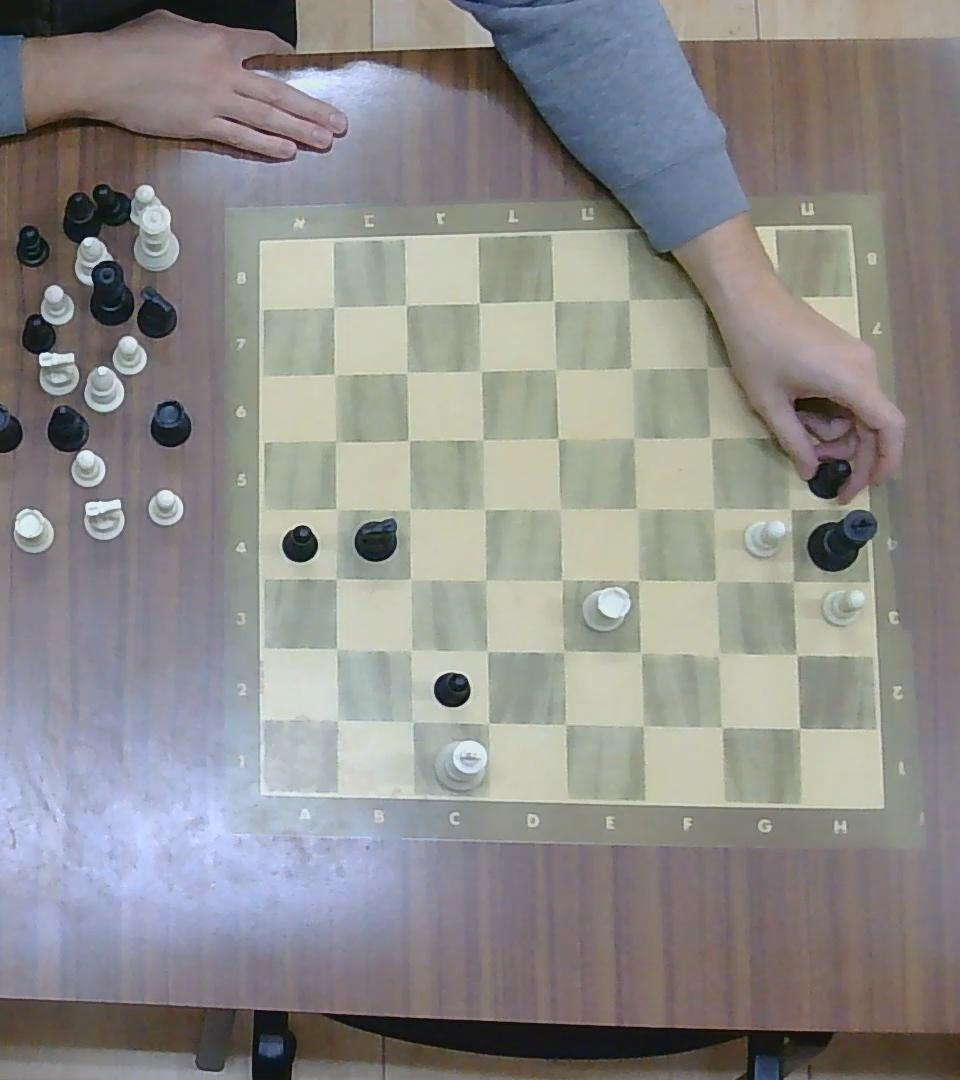xcorner: (703, 710, 737, 743), (702, 636, 734, 669), (548, 706, 580, 738), (625, 635, 656, 667), (783, 711, 814, 743), (471, 706, 502, 738), (626, 709, 657, 741), (691, 282, 721, 314), (767, 280, 796, 313), (547, 636, 578, 666), (396, 705, 427, 735), (321, 703, 351, 734), (547, 563, 577, 594), (781, 639, 812, 669), (615, 283, 645, 313), (539, 285, 569, 315), (700, 565, 730, 595), (699, 492, 728, 523), (623, 563, 652, 594), (623, 492, 652, 523), (465, 286, 494, 317), (545, 494, 574, 524), (776, 491, 805, 521), (693, 351, 723, 380), (470, 564, 500, 593), (619, 351, 648, 381), (777, 567, 807, 596), (543, 352, 571, 383), (470, 493, 499, 522), (467, 424, 496, 453), (395, 635, 424, 664), (392, 289, 421, 318), (319, 292, 348, 321), (771, 419, 800, 448), (471, 637, 501, 665), (769, 349, 797, 379), (545, 422, 573, 451), (621, 422, 649, 451), (466, 355, 495, 383), (321, 635, 350, 663), (393, 357, 421, 385), (396, 564, 423, 593), (699, 421, 726, 449), (321, 359, 349, 386), (396, 425, 422, 452), (323, 426, 349, 453), (324, 496, 350, 523), (396, 496, 422, 522), (323, 565, 349, 591)
